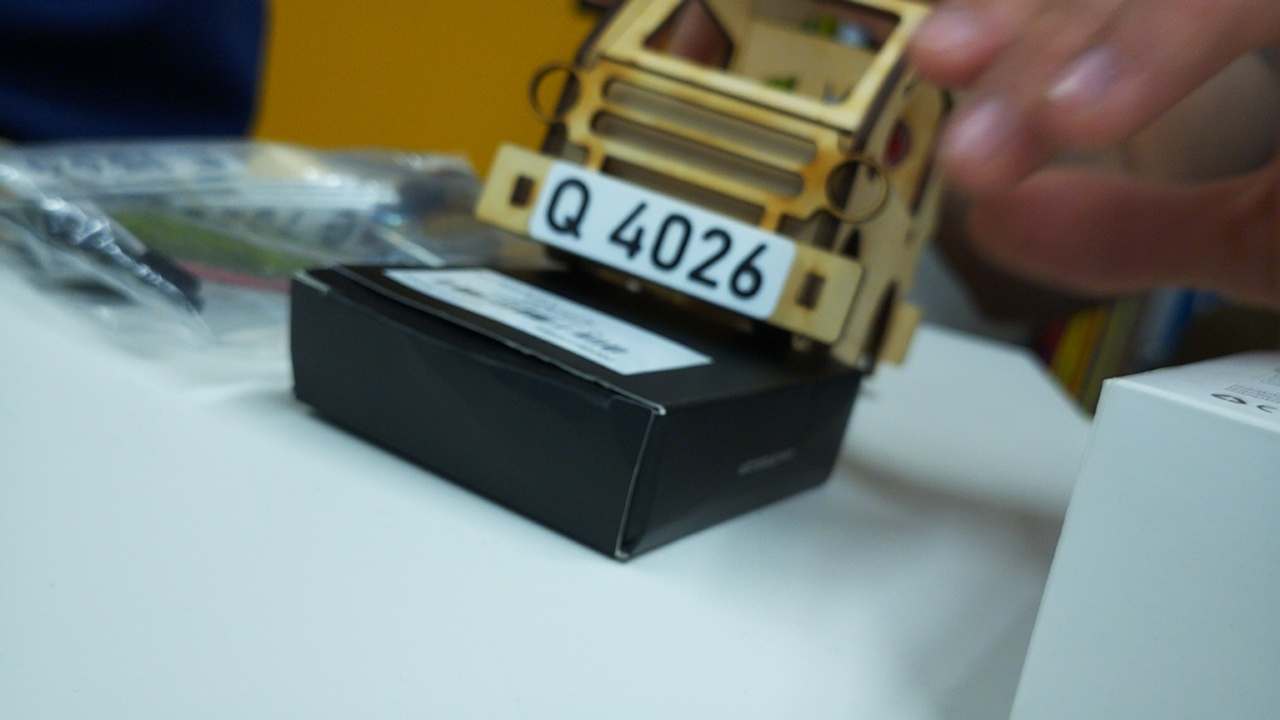license_plate: (522, 157, 800, 323)
